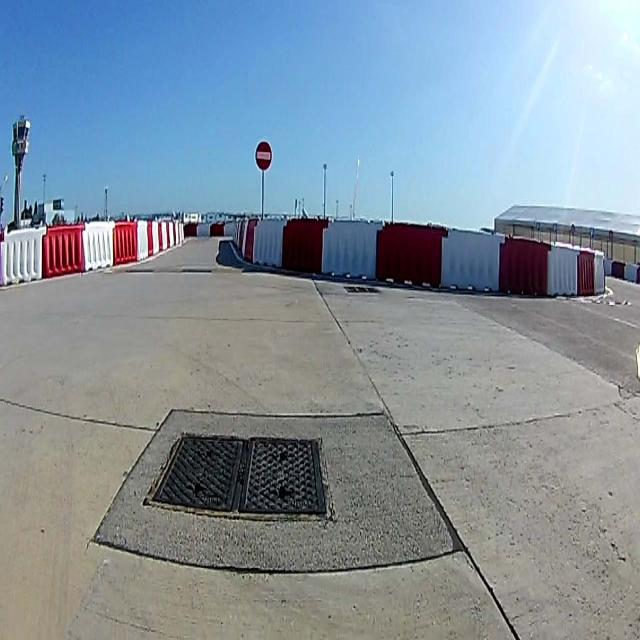girisyok: (255, 141, 273, 171)
